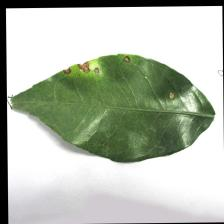canker: (55, 45, 143, 82)
